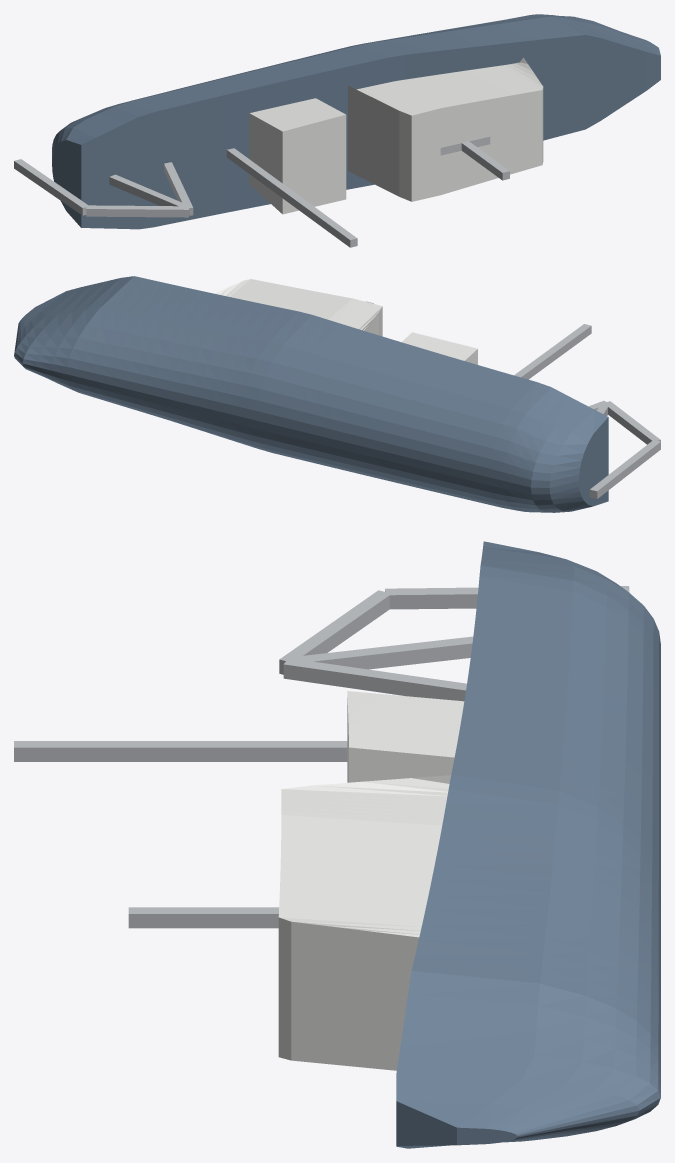
Rendered from loft-mine-clearance-highside.glb.
3 renders of one model, top to bottom at view 1: azimuth 30°, elevation 25°; view 2: azimuth 150°, elevation 25°; view 3: azimuth 270°, elevation 25°, orthographic. The views are drawn at different scales.
Visible parts, largest first — view 1: loft-mine-clearance-highside; view 2: loft-mine-clearance-highside; view 3: loft-mine-clearance-highside.
Part boxes in pixels (x1,y1,x2,y2): loft-mine-clearance-highside: (14,14,660,247); loft-mine-clearance-highside: (14,276,660,512); loft-mine-clearance-highside: (14,541,660,1148).
Size of the model in its own units: 1.96 by 0.3903 by 0.9869.
